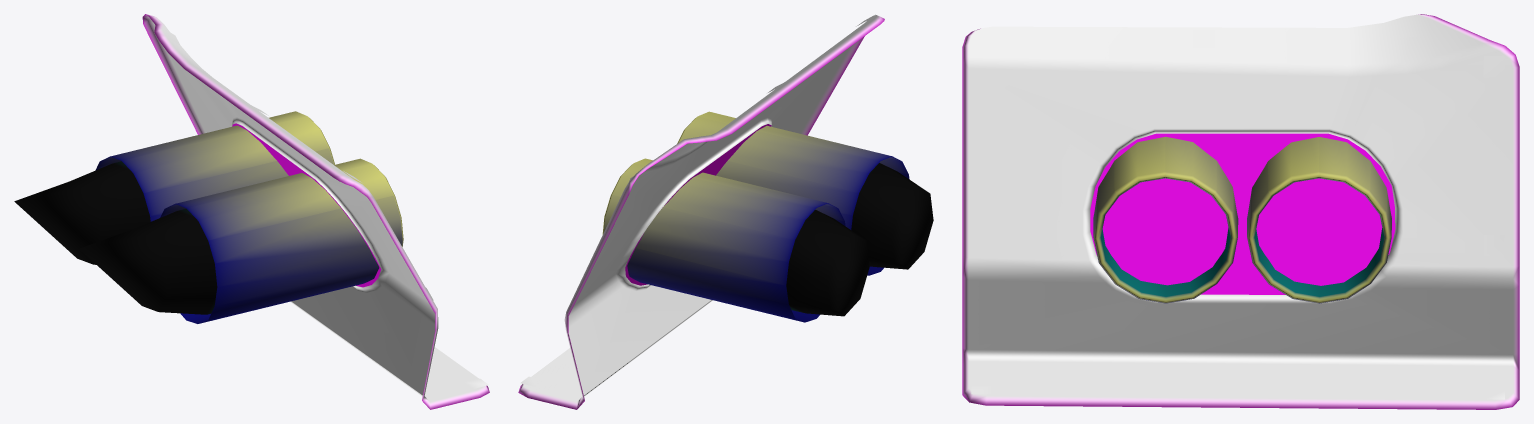
The model's file is Car_Nissan_SkylineGTRVspecR34_1999_Exhausts_SetF_AltE.fbx.
3 views of the same model, side by side, from view 1: azimuth 30°, elevation 25°; view 2: azimuth 150°, elevation 25°; view 3: azimuth 270°, elevation 25° (orthographic). The views are drawn at different scales.
Parts seen in each view (by area): view 1: Exhausts 6; view 2: Exhausts 6; view 3: Exhausts 6.
Boxes of the visible parts, x1,y1,x2,y2 form: Exhausts 6: [14, 14, 489, 409]; Exhausts 6: [518, 14, 933, 409]; Exhausts 6: [962, 14, 1519, 409].
Bounding box in the file's own units: 0.1919 × 0.1663 × 0.269.
